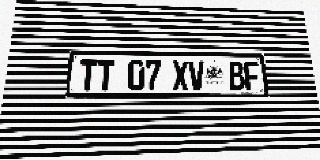0: (127, 60, 144, 91)
7: (145, 60, 161, 91)
B: (228, 61, 246, 91)
F: (243, 61, 261, 91)
T: (78, 59, 98, 91), (97, 60, 115, 91)
V: (188, 61, 205, 91)
X: (172, 60, 189, 91)
